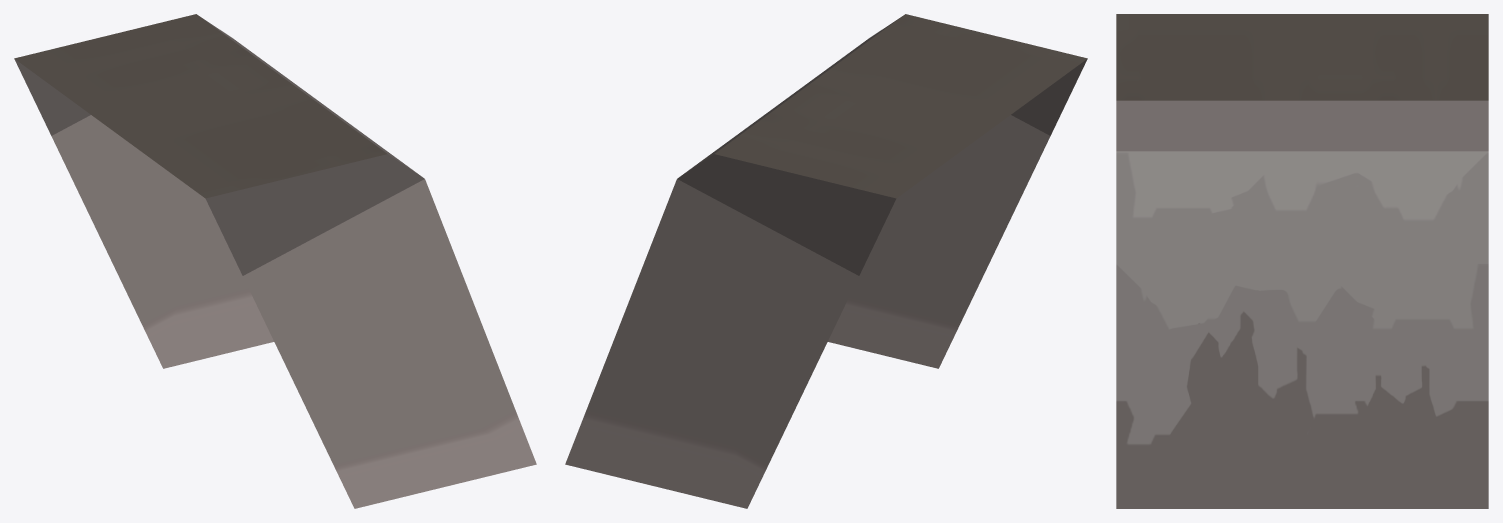
Rendered from SM_Building_Sewer_02.fbx.
3 renders of one model, left to right at view 1: azimuth 30°, elevation 25°; view 2: azimuth 150°, elevation 25°; view 3: azimuth 270°, elevation 25°, orthographic. The views are drawn at different scales.
Visible parts, largest first — view 1: SM_Building_Sewer_02; view 2: SM_Building_Sewer_02; view 3: SM_Building_Sewer_02.
Boxes of the visible parts, x1,y1,x2,y2 form: SM_Building_Sewer_02: (14, 14, 536, 508); SM_Building_Sewer_02: (565, 14, 1087, 508); SM_Building_Sewer_02: (1116, 14, 1488, 508).
Bounding box in the file's own units: 2 × 2 × 2.
